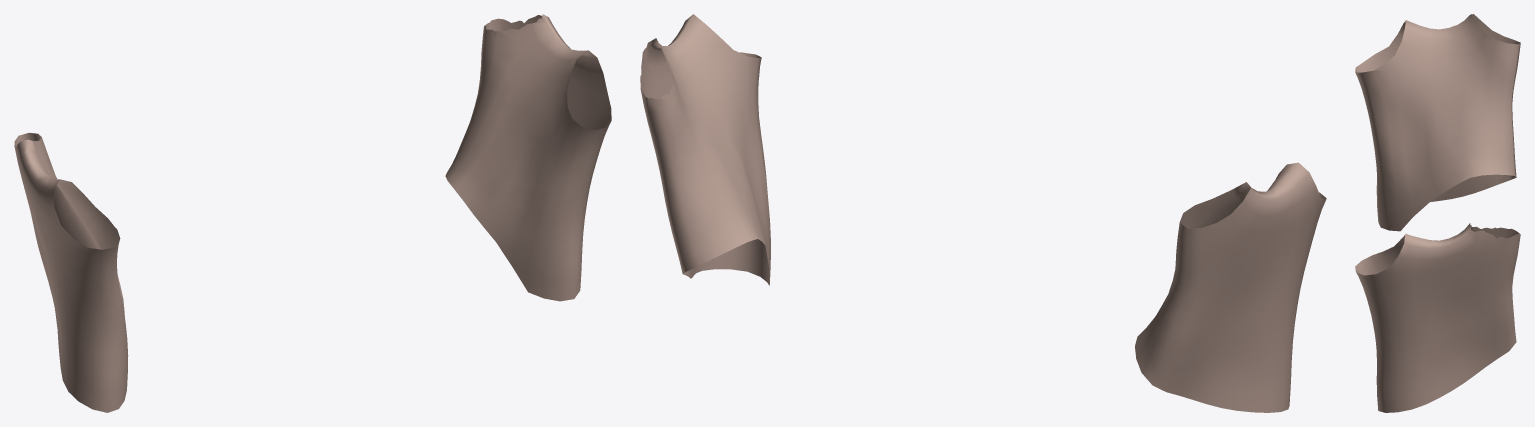
Rendered from Mandibular.fbx.
The picture shows the model from 3 angles, left to right: view 1: azimuth 30°, elevation 25°; view 2: azimuth 150°, elevation 25°; view 3: azimuth 270°, elevation 25°; orthographic projection. The views are drawn at different scales.
Visible parts, largest first — view 1: Mandibular; view 2: Mandibular; view 3: Mandibular.
Part boxes in pixels (x1,y1,x2,y2): Mandibular: [14, 14, 611, 412]; Mandibular: [640, 14, 1326, 412]; Mandibular: [1355, 14, 1520, 412].
Bounding box in the file's own units: 498 × 207 × 157.
